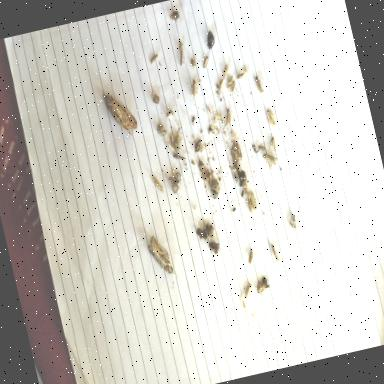pbw: (168, 171, 184, 194), (239, 282, 255, 303), (176, 42, 188, 67), (228, 142, 240, 166), (151, 174, 164, 194), (263, 152, 279, 168), (188, 78, 200, 99), (255, 75, 266, 95), (272, 243, 282, 264), (193, 139, 205, 155), (224, 108, 234, 127), (169, 10, 182, 24), (268, 136, 278, 154), (249, 192, 258, 212), (246, 249, 256, 266), (166, 173, 178, 186), (220, 64, 231, 78), (174, 132, 182, 150), (246, 197, 254, 215), (225, 76, 236, 89), (201, 54, 211, 68), (217, 78, 227, 92), (240, 178, 250, 192), (148, 53, 160, 64), (174, 152, 186, 163), (291, 214, 299, 230), (236, 142, 243, 160), (266, 108, 276, 120), (170, 132, 177, 148), (237, 72, 248, 82), (228, 81, 238, 92), (168, 142, 176, 155), (290, 222, 294, 230)
